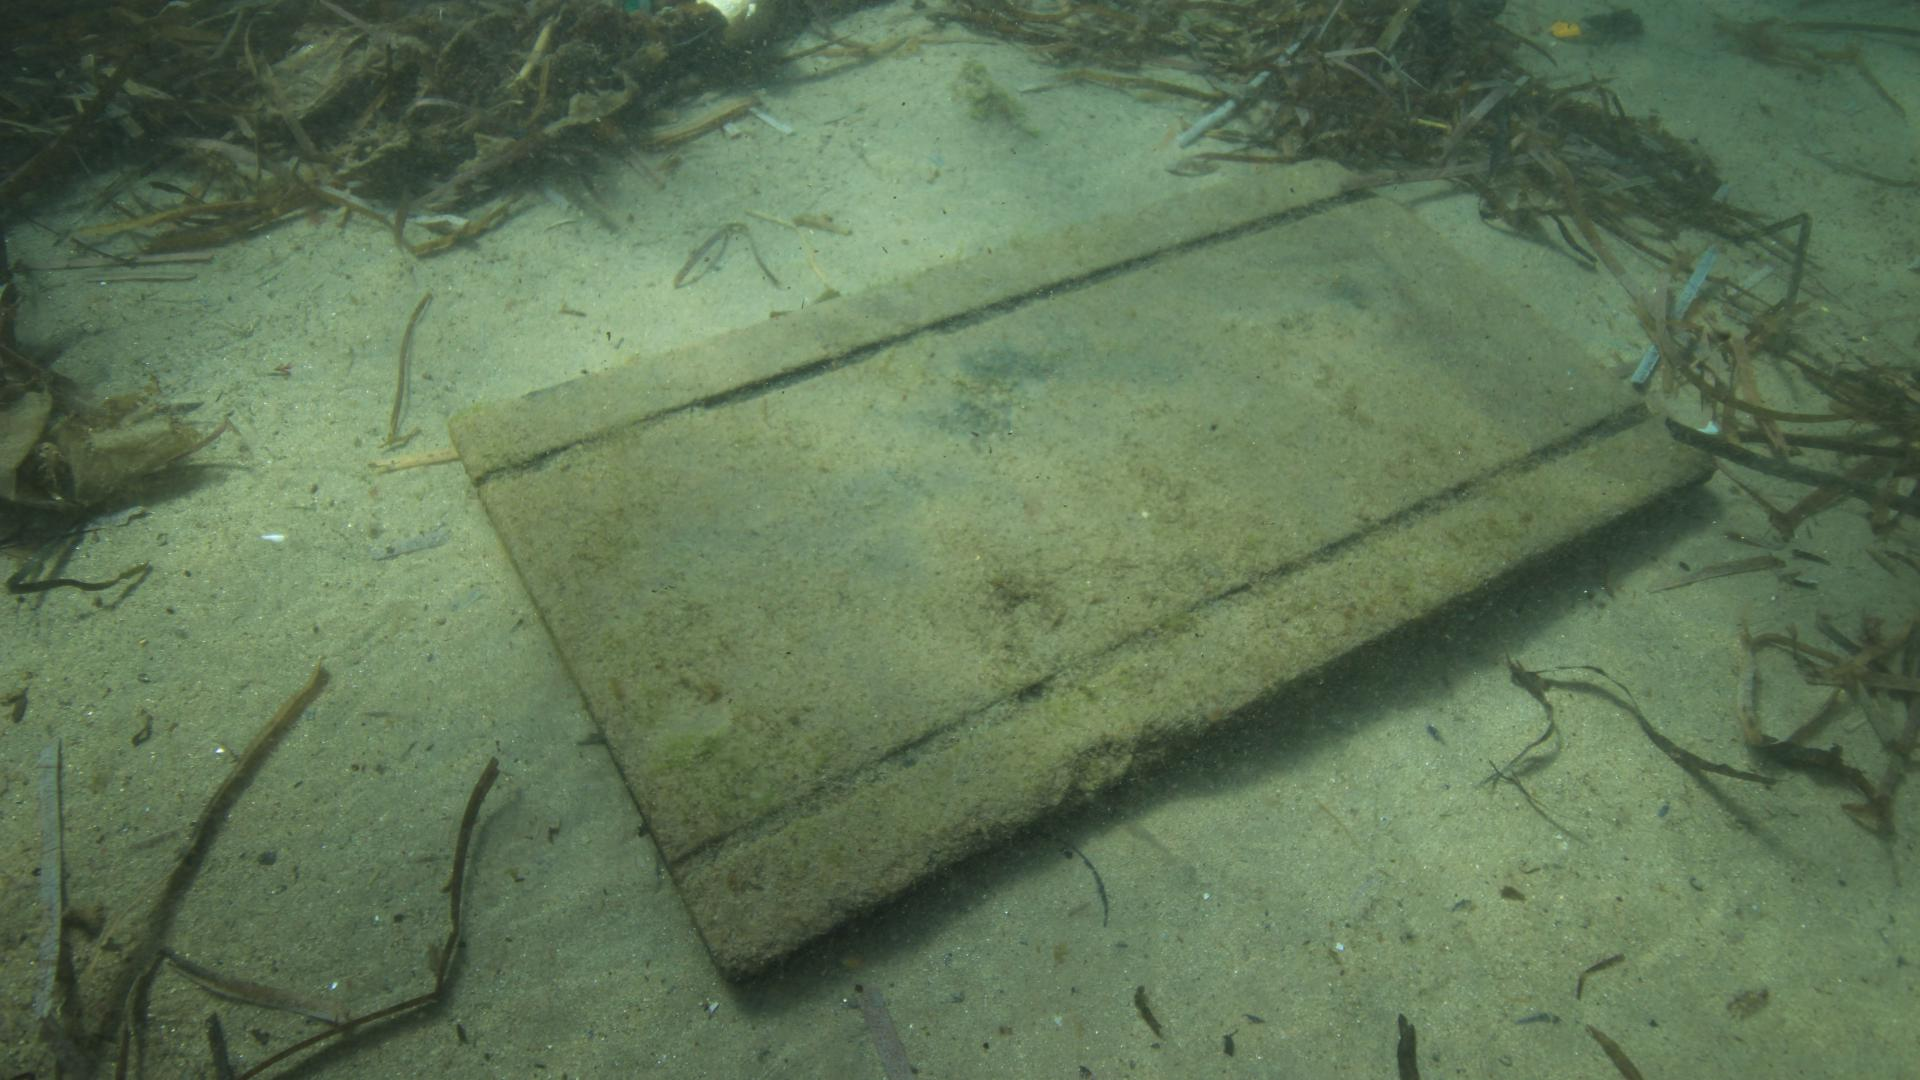wood: (448, 156, 1720, 984)
